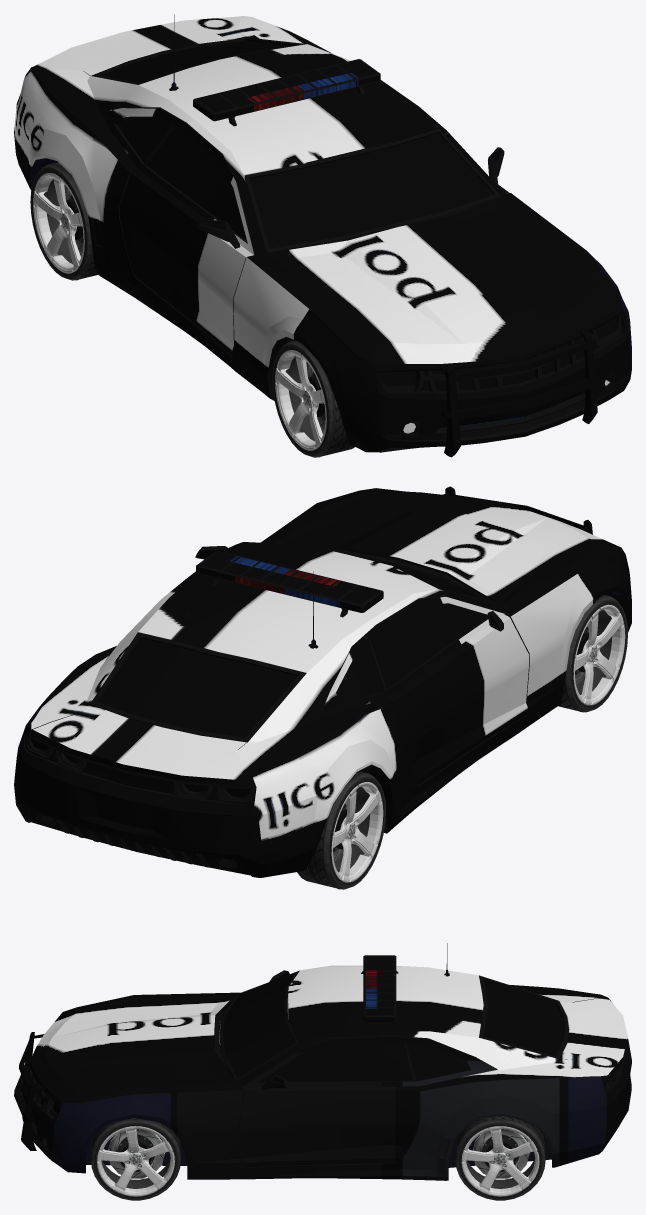
Rendered from PoliceCar1.FBX.
3 views of the same model, one above another, from view 1: azimuth 30°, elevation 25°; view 2: azimuth 150°, elevation 25°; view 3: azimuth 270°, elevation 25° (orthographic). The views are drawn at different scales.
Visible parts, largest first — view 1: Body, FR, BR; view 2: Body, BR, FR; view 3: Body, BL, FL.
Part boxes in pixels (x1=…): Body: x1=14, y1=14, x2=631, y2=457; FR: x1=272, y1=340, x2=354, y2=457; BR: x1=30, y1=162, x2=98, y2=280; Body: x1=14, y1=486, x2=631, y2=877; BR: x1=297, y1=771, x2=385, y2=889; FR: x1=558, y1=595, x2=627, y2=712; Body: x1=14, y1=943, x2=631, y2=1180; BL: x1=455, y1=1115, x2=545, y2=1200; FL: x1=91, y1=1118, x2=180, y2=1200.
Size of the model in its own units: 19.87 by 16.65 by 45.95.
